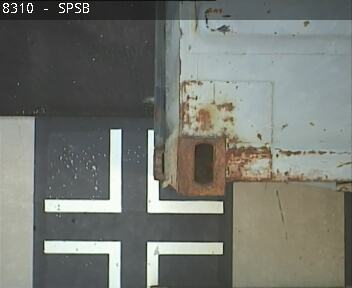groundmarker_1: (42, 129, 222, 213), (43, 239, 222, 288)
